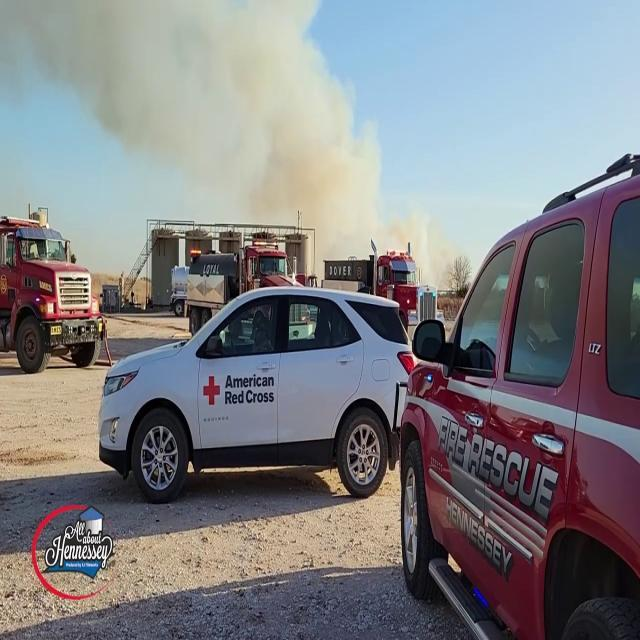Smoke: (2, 0, 396, 234)
